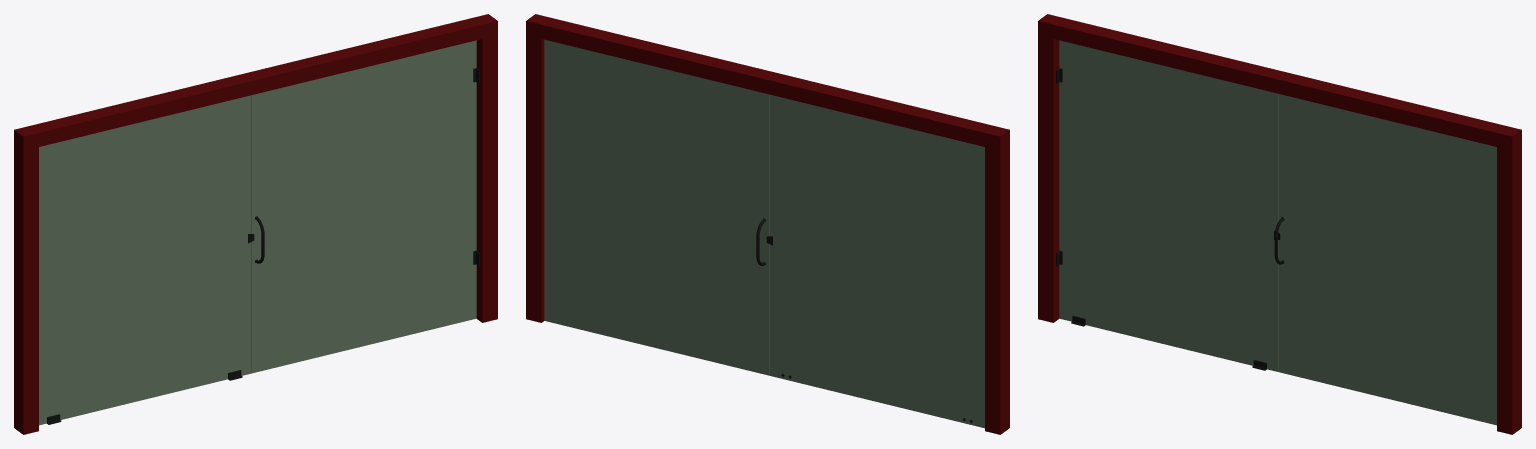
File: Glass door.FBX
3 renders of one model, left to right at view 1: azimuth 30°, elevation 25°; view 2: azimuth 150°, elevation 25°; view 3: azimuth 330°, elevation 25°, orthographic.
Visible parts, largest first — view 1: Object001, Cancel, Plane001; view 2: Object001, Cancel, Plane001; view 3: Object001, Cancel, Plane001.
Boxes of the visible parts, x1,y1,x2,y2 form: Object001: [251, 40, 476, 373]; Cancel: [39, 95, 251, 425]; Plane001: [14, 14, 497, 434]; Object001: [544, 39, 769, 375]; Cancel: [769, 94, 984, 428]; Plane001: [526, 14, 1009, 434]; Object001: [1278, 94, 1496, 425]; Cancel: [1059, 40, 1278, 371]; Plane001: [1038, 14, 1521, 434].
Size of the model in its own units: 422 by 254 by 23.67.
